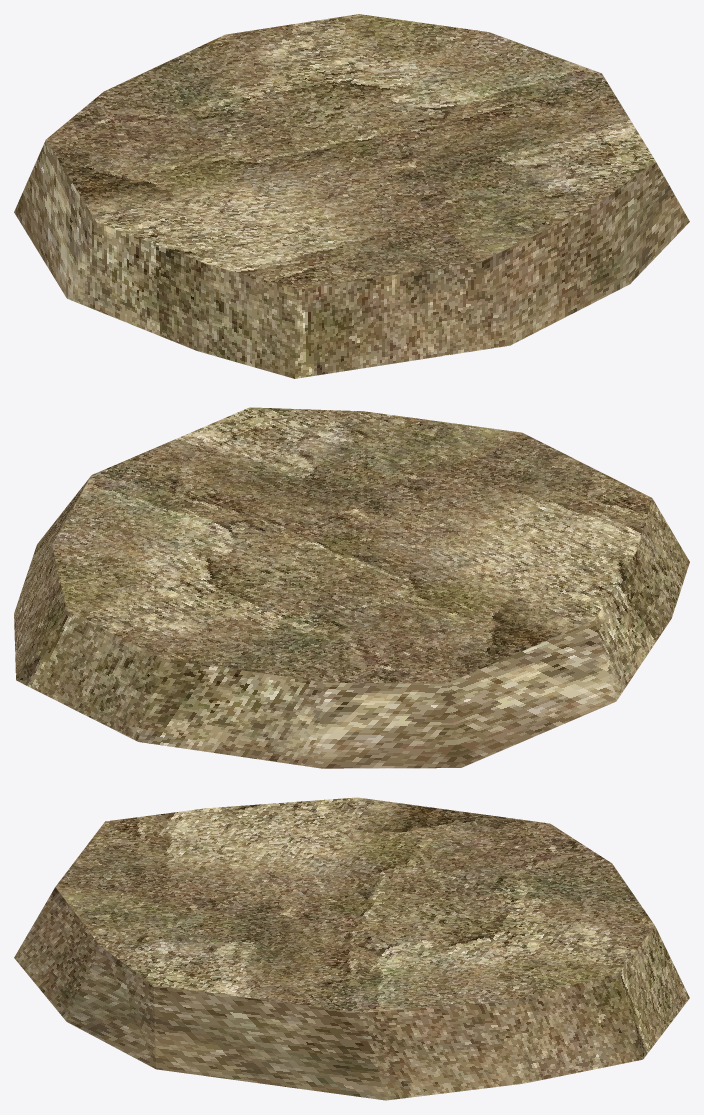
File: stage-east-p7-133.glb
The picture shows the model from 3 angles, top to bottom: view 1: azimuth 30°, elevation 25°; view 2: azimuth 150°, elevation 25°; view 3: azimuth 270°, elevation 25°; orthographic projection. The views are drawn at different scales.
Size of the model in its own units: 8.44 by 1.45 by 8.91.
Materials: 1 (1 with a texture image).
